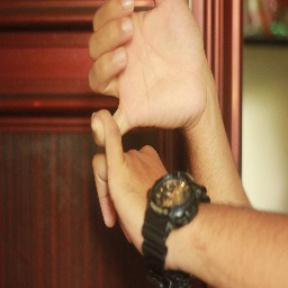S: (78, 1, 210, 230)
